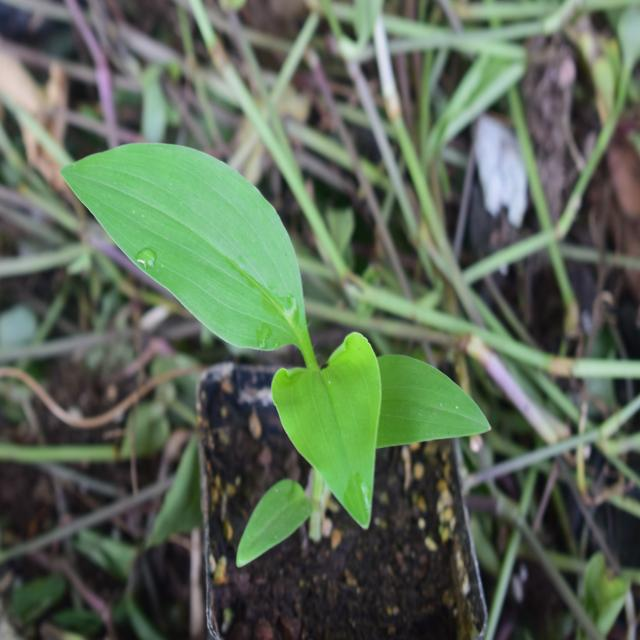Common Dayflower: (81, 129, 476, 525)
